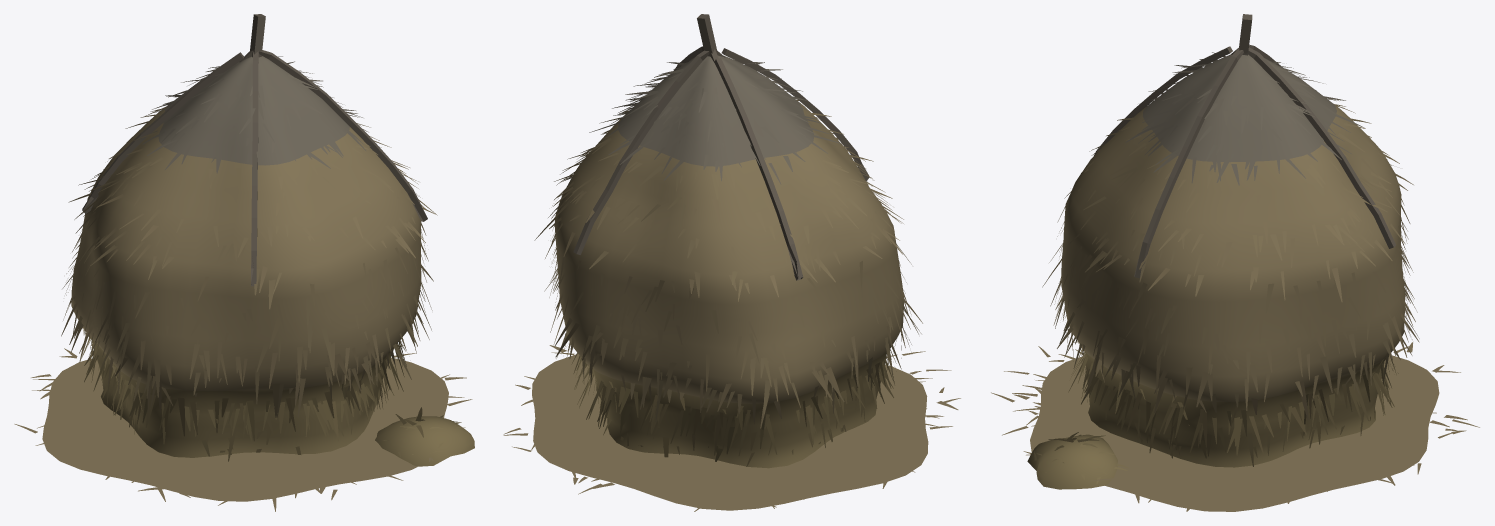
Rendered from lees_place_haystack_1812_c__lees_place_1812.glb.
3 views of the same model, side by side, from view 1: azimuth 30°, elevation 25°; view 2: azimuth 150°, elevation 25°; view 3: azimuth 270°, elevation 25° (orthographic). The views are drawn at different scales.
Visible parts, largest first — view 1: lees_place_haystack_1812_c__lees_place_1812; view 2: lees_place_haystack_1812_c__lees_place_1812; view 3: lees_place_haystack_1812_c__lees_place_1812.
Part boxes in pixels (bbox=[...]): lees_place_haystack_1812_c__lees_place_1812: bbox=[14, 14, 474, 511]; lees_place_haystack_1812_c__lees_place_1812: bbox=[503, 14, 960, 511]; lees_place_haystack_1812_c__lees_place_1812: bbox=[991, 14, 1479, 511].
Size of the model in its own units: 5.28 by 5.13 by 5.41.
